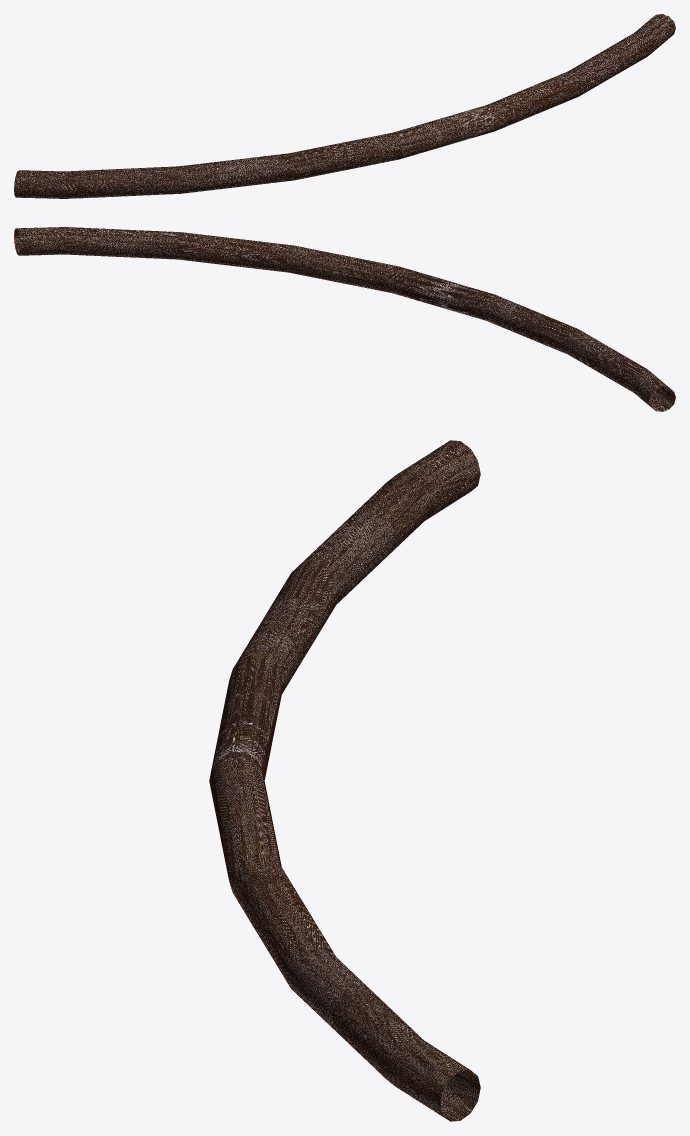
Rendered from original-28.obj.
3 renders of one model, top to bottom at view 1: azimuth 30°, elevation 25°; view 2: azimuth 150°, elevation 25°; view 3: azimuth 270°, elevation 25°, orthographic. The views are drawn at different scales.
Parts seen in each view (by area): view 1: mesh21/mesh21-geometry#mesh21-geometry; view 2: mesh21/mesh21-geometry#mesh21-geometry; view 3: mesh21/mesh21-geometry#mesh21-geometry.
Boxes of the visible parts, bbox=[...] form: mesh21/mesh21-geometry#mesh21-geometry: bbox=[14, 14, 675, 198]; mesh21/mesh21-geometry#mesh21-geometry: bbox=[14, 227, 675, 411]; mesh21/mesh21-geometry#mesh21-geometry: bbox=[209, 440, 480, 1121].
Size of the model in its own units: 0.1587 by 0.00573 by 0.0282.
